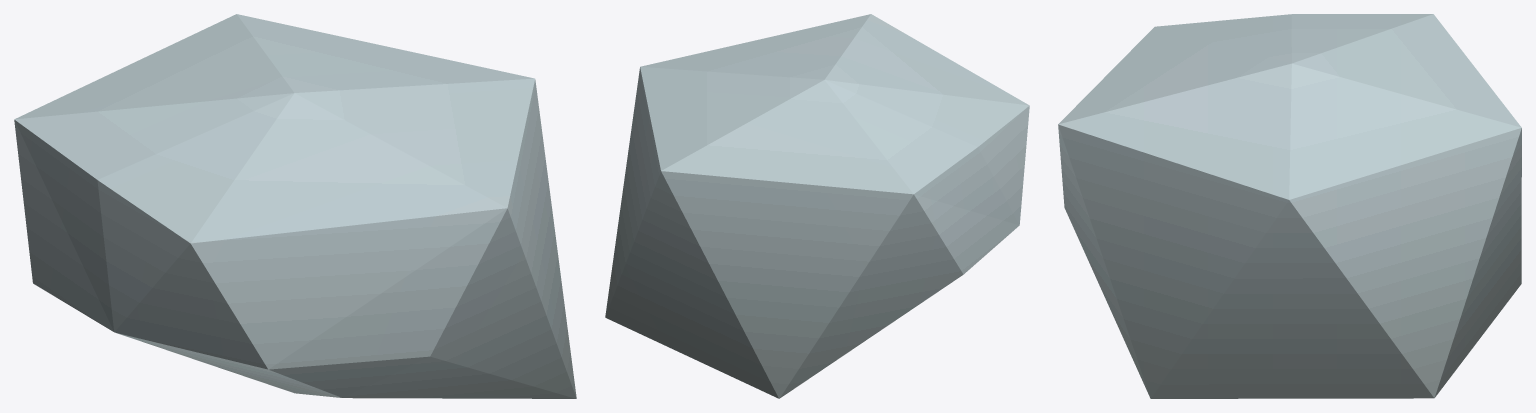
3 views of the same model, side by side, from view 1: azimuth 30°, elevation 25°; view 2: azimuth 150°, elevation 25°; view 3: azimuth 270°, elevation 25° (orthographic). The views are drawn at different scales.
Visible parts, largest first — view 1: Rock_01; view 2: Rock_01; view 3: Rock_01.
Boxes of the visible parts, bbox=[...] form: Rock_01: bbox=[14, 14, 576, 398]; Rock_01: bbox=[605, 14, 1029, 398]; Rock_01: bbox=[1058, 14, 1521, 398].
Size of the model in its own units: 85.56 by 53.46 by 87.34.
